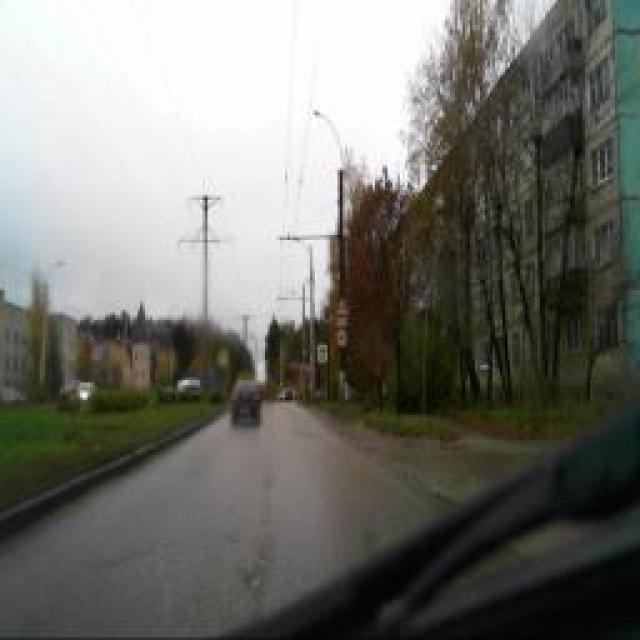sign: (336, 296, 349, 316)
